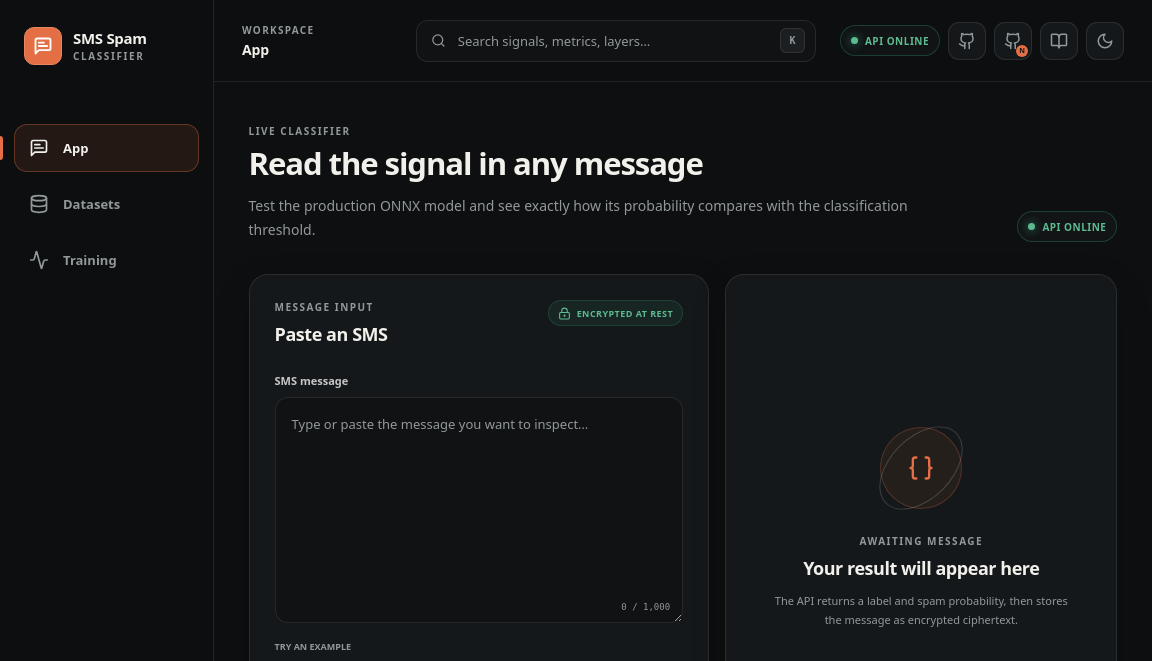
Scenario: prediction workflow › renders a spam prediction and stores only response metadata in session history
The width and height of the screenshot is (1152, 661).
Type "Claim your free prize now" into the text box labelled "SMS message" at x=479, y=510, box top-left (274, 397), bottom-right (683, 623)
(page scrolled)
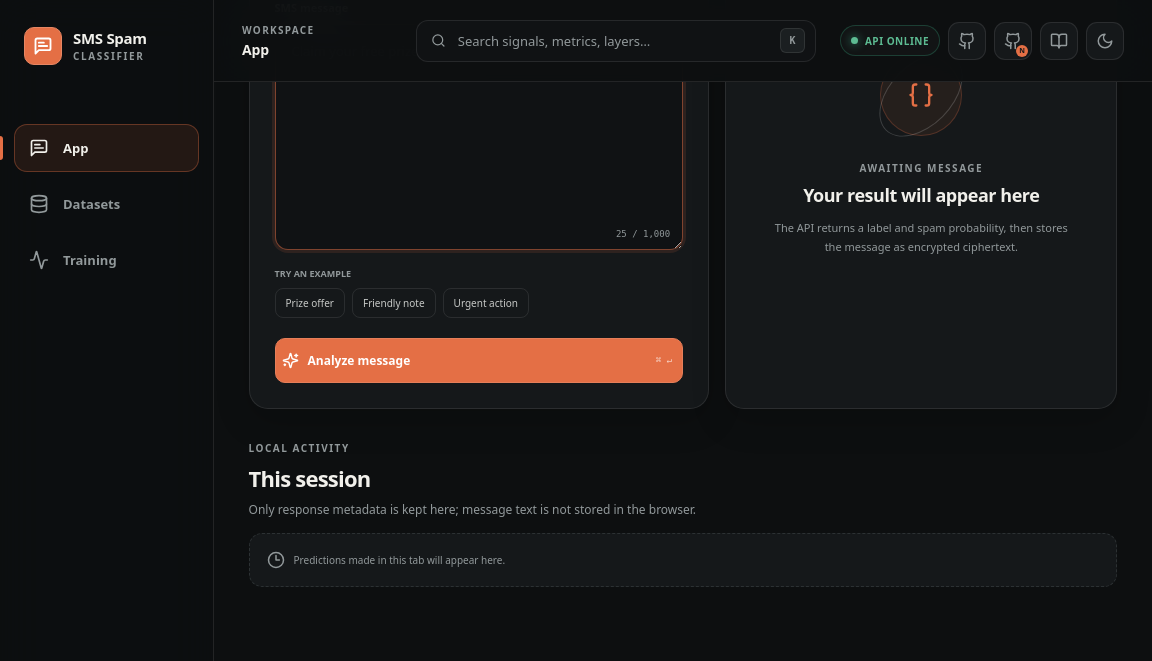
Click the button "Analyze message ⌘ ↵" at x=359, y=360, box top-left (274, 338), bottom-right (683, 383)
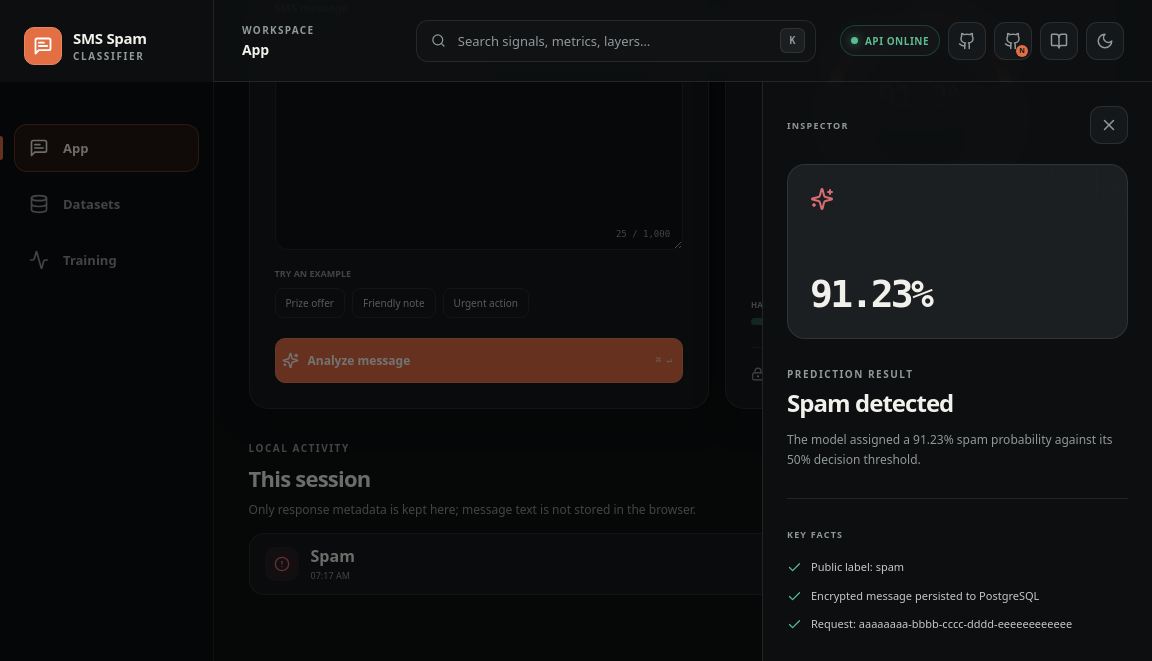
Check: the text "Encrypted record saved" is shown, box top-left (751, 367), bottom-right (870, 381)
